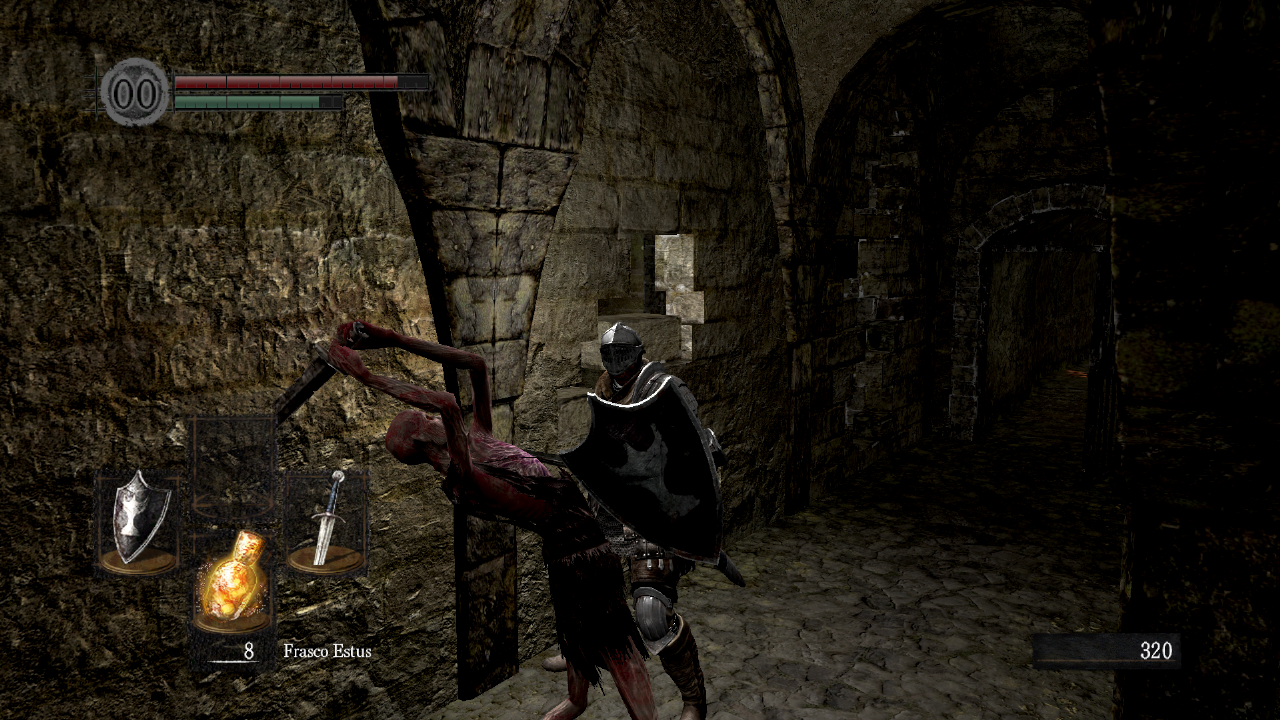hollow: (313, 317, 659, 720)
player: (542, 322, 748, 720)
